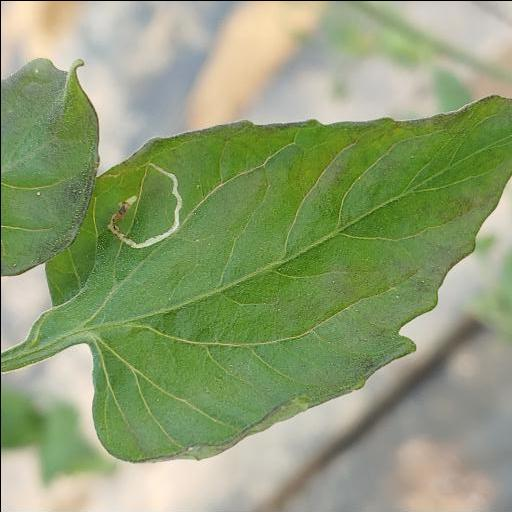Leaf Miner: (42, 95, 509, 465)
